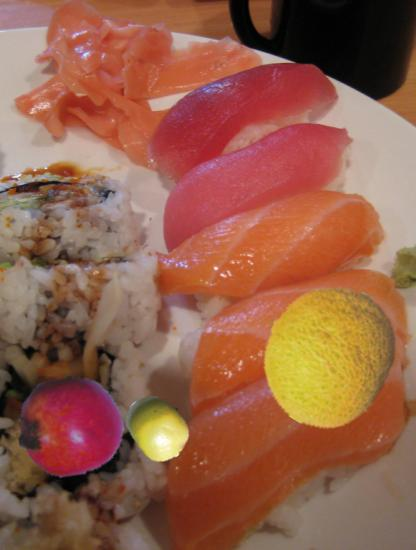Cantaloupe: (254, 282, 399, 427)
Pomegranate: (17, 373, 124, 480)
Pomelo: (123, 393, 193, 463)
